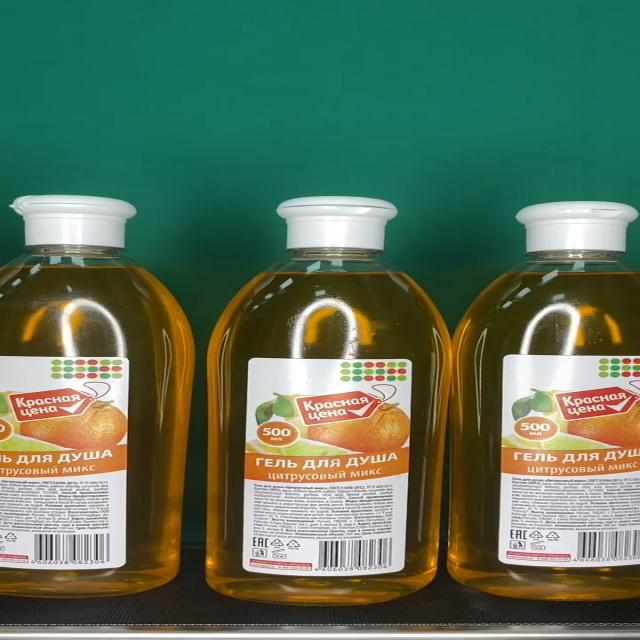Bottle: (207, 197, 451, 604), (0, 194, 196, 598), (450, 200, 640, 601)
Cap: (12, 195, 136, 248), (275, 197, 398, 250), (514, 201, 639, 253)
